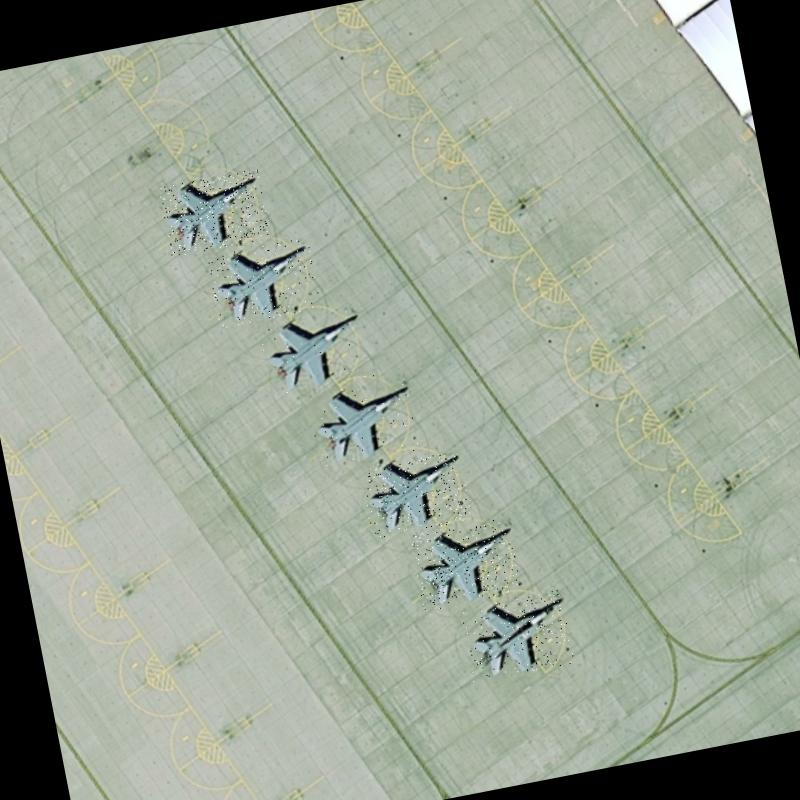A16: (304, 376, 424, 470), (409, 515, 522, 612), (459, 589, 575, 682), (206, 237, 321, 328), (258, 306, 374, 396), (359, 450, 473, 539), (158, 168, 271, 257)
